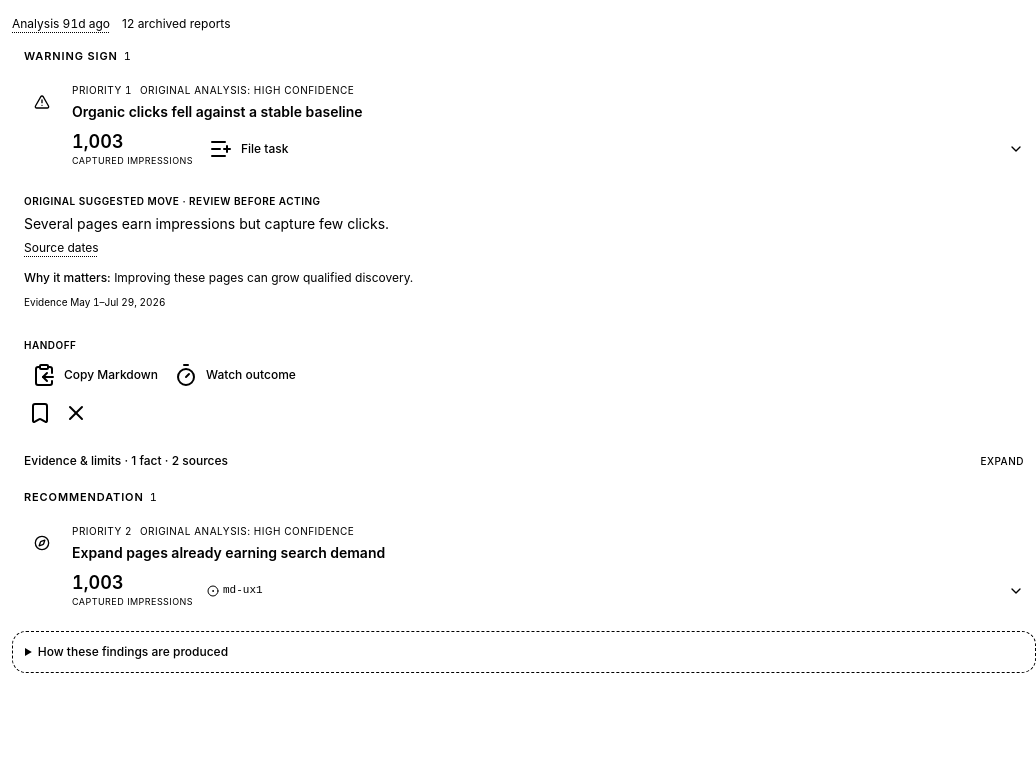
Test: ExecutiveFindingsList decisions live in the OS › starts as one focused decision plus a compact, fully identified queue
Expected: the heading "Recommendation 1" is shown, [24,490,158,504]
Expected: the text "Recommendation" is not shown
Step 1. Click the 5th heading → point(98, 531), box [12,512,1035,619]
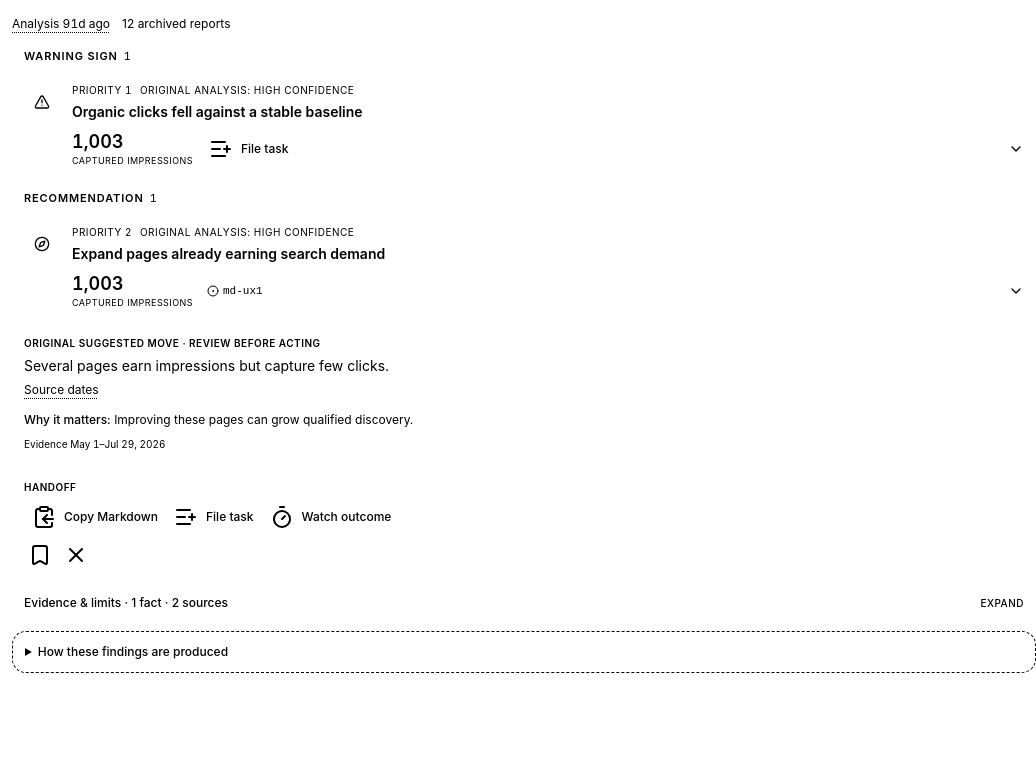
Now the text "Several pages earn impressions but capture few clicks." is shown, box [24,357,389,374]
Now the text "Improving these pages can grow qualified discovery." is shown, box [114,412,413,427]
Now the text "Copy Markdown" is shown, box [24,503,166,531]
